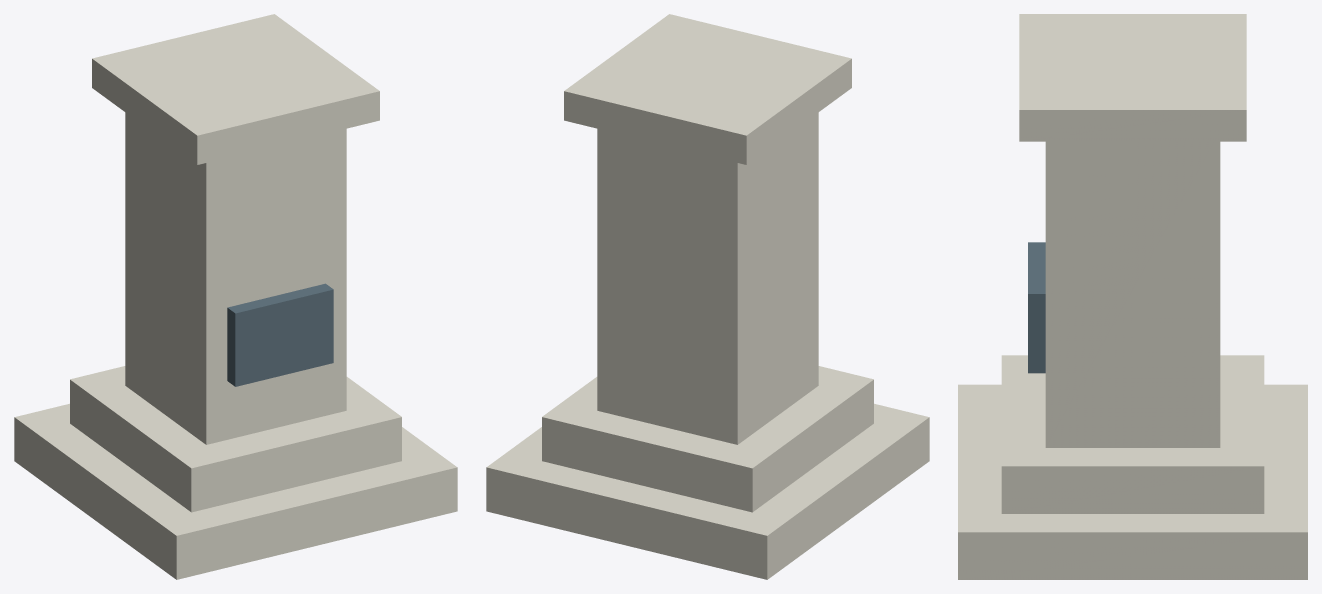
The model's file is voxel-city-districts-monument-plinth-59d2028c__24859.glb.
3 renders of one model, left to right at view 1: azimuth 30°, elevation 25°; view 2: azimuth 150°, elevation 25°; view 3: azimuth 270°, elevation 25°, orthographic. The views are drawn at different scales.
Parts seen in each view (by area): view 1: monument-plinth-concrete, monument-plinth-dark; view 2: monument-plinth-concrete; view 3: monument-plinth-concrete, monument-plinth-dark.
Part boxes in pixels (<box>): monument-plinth-concrete: <box>14,14,457,579</box>; monument-plinth-dark: <box>227,283,333,386</box>; monument-plinth-concrete: <box>486,14,929,579</box>; monument-plinth-concrete: <box>958,14,1307,579</box>; monument-plinth-dark: <box>1028,242,1045,373</box>.
Size of the model in its own units: 2 by 2.8 by 2.
